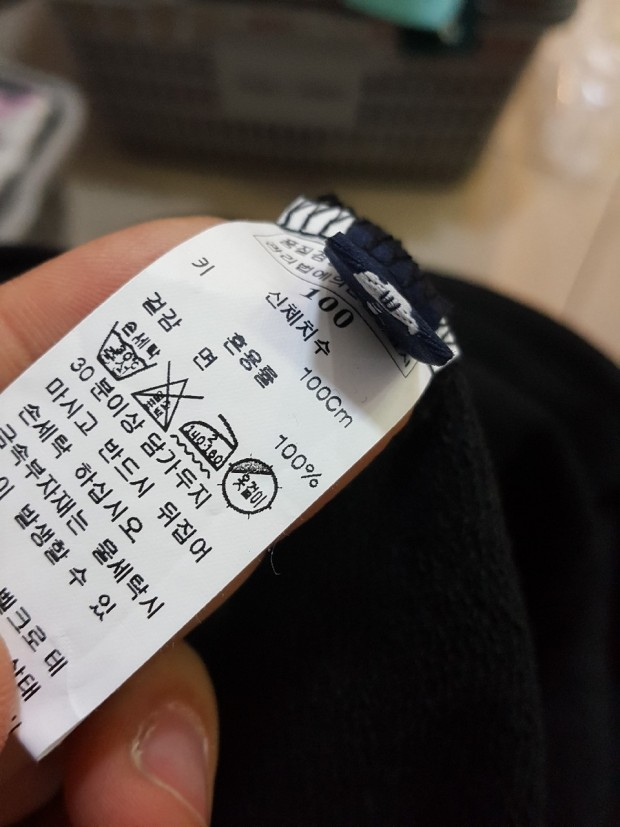KR_hand_wash_30_neutral: (88, 304, 171, 389)
KR_hang_dry_in_shade: (223, 457, 282, 517)
KR_iron_medium_temp_with_cloth: (166, 399, 253, 488)
KR_no_chlorine_bleach: (122, 356, 208, 437)
